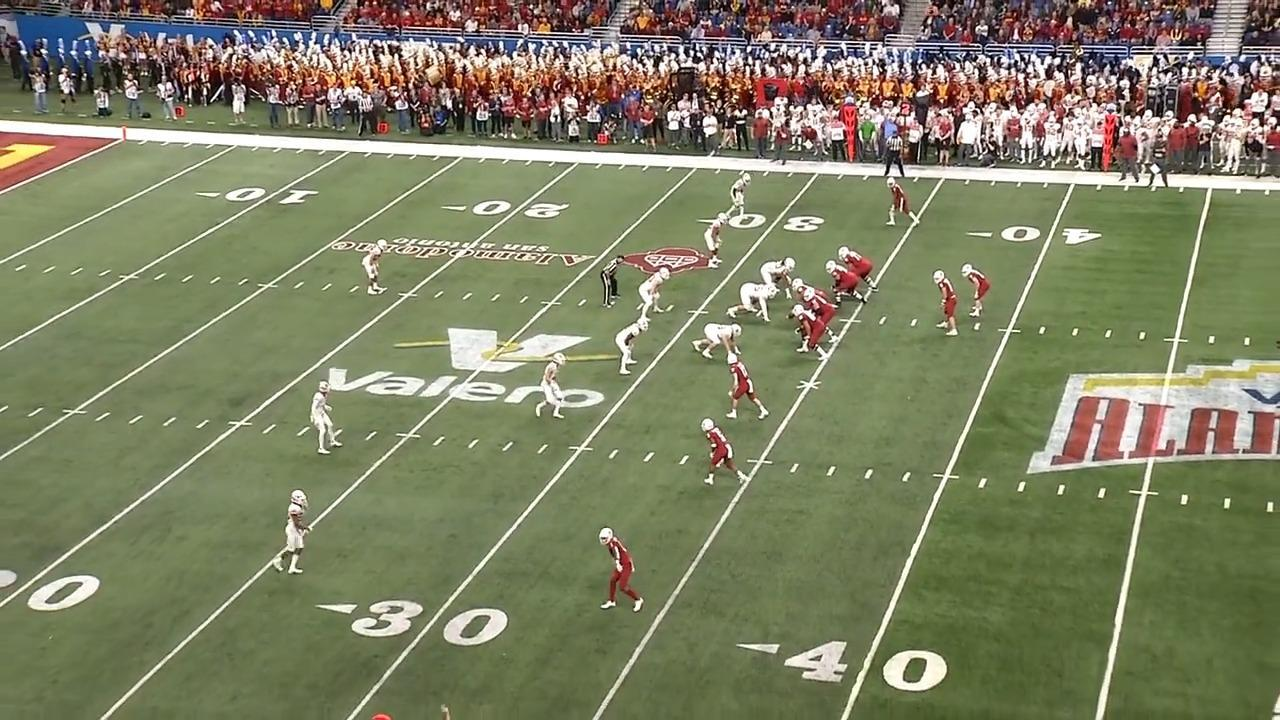defense: (276, 491, 316, 582), (311, 379, 348, 459), (534, 351, 570, 423), (691, 322, 744, 364), (615, 317, 650, 378), (636, 265, 671, 324), (728, 281, 777, 321), (758, 258, 799, 297), (361, 243, 387, 300), (705, 211, 729, 270), (725, 173, 751, 226)
oline: (791, 306, 832, 363), (827, 263, 868, 310), (806, 294, 842, 345), (837, 245, 876, 292), (791, 282, 828, 314)
qb: (937, 269, 967, 338)
ref: (601, 258, 626, 314), (885, 130, 910, 183), (1141, 150, 1168, 189)
skill: (595, 526, 648, 616), (698, 419, 753, 489), (725, 354, 772, 424), (960, 260, 992, 321), (887, 178, 922, 229)
